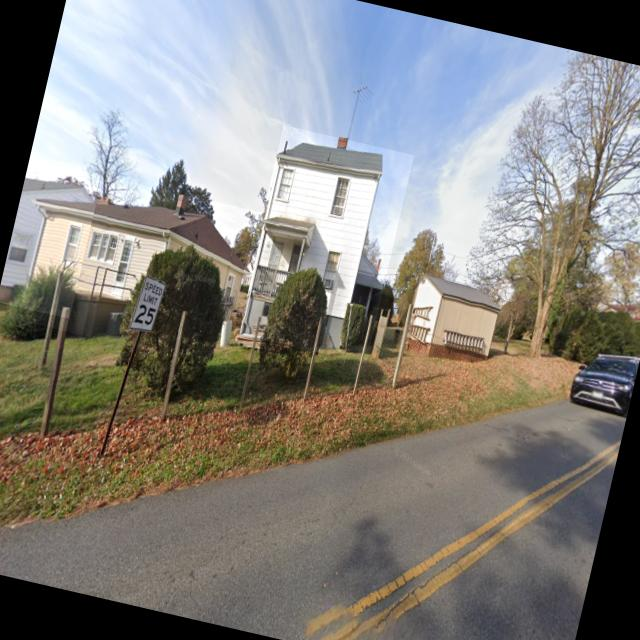House: (8, 162, 266, 369), (234, 124, 413, 363), (0, 171, 99, 318), (240, 252, 256, 286)
